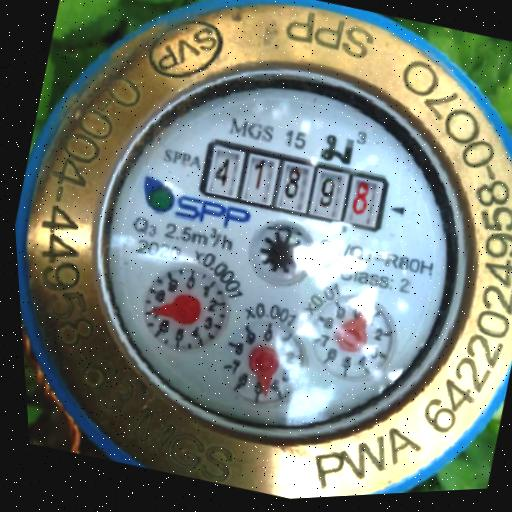1: (240, 157, 273, 203)
4: (206, 150, 240, 196)
8: (276, 165, 309, 212), (347, 180, 380, 225)
9: (312, 173, 344, 219)
border_water_meter_number: (194, 129, 395, 243)
